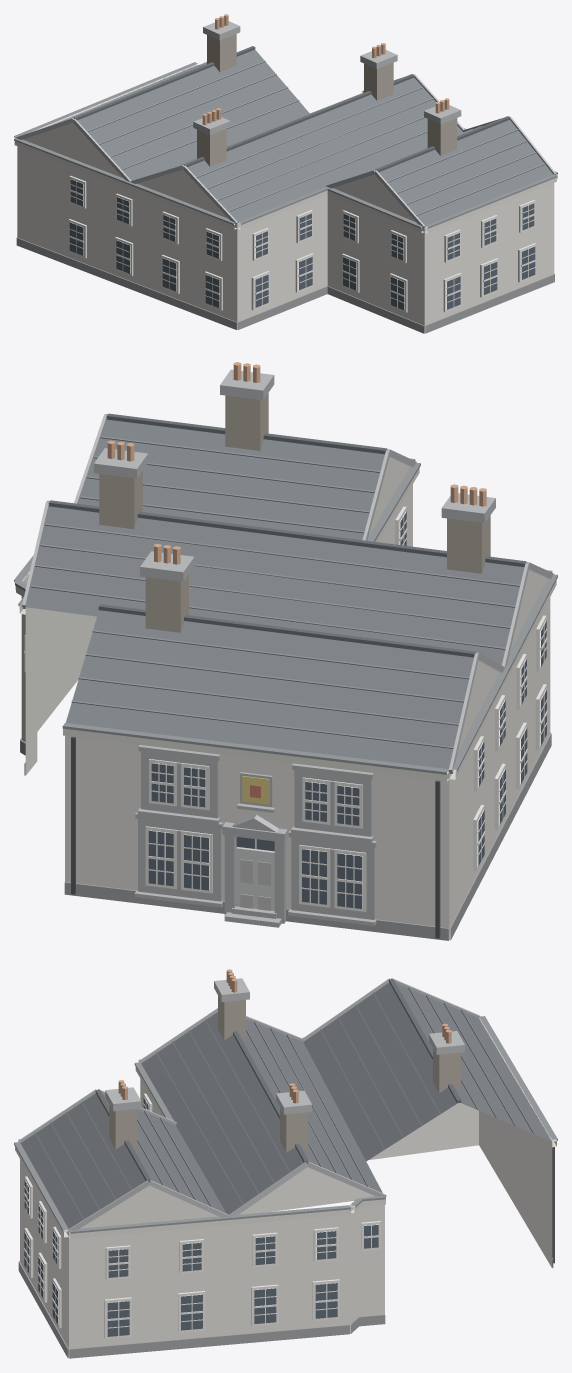
3 views of the same model, one above another, from view 1: azimuth 30°, elevation 25°; view 2: azimuth 150°, elevation 25°; view 3: azimuth 270°, elevation 25° (orthographic). The views are drawn at different scales.
Visible parts, largest first — view 1: harl, slate, frame, slate_lt, plinth, dress_dark, chim_stone, lead, string, slate_dk, pot, window_glass_014 (+5 smaller); view 2: slate, harl, dress_dark, slate_lt, frame, chim_stone, slate_dk, lead, plinth, string, pot, pipe (+10 smaller); view 3: slate, harl, dress_dark, frame, slate_lt, chim_stone, plinth, lead, string, slate_dk, window_glass_032, window_glass_034 (+7 smaller).
Boxes of the visible parts, bbox=[...] form: harl: bbox=[17, 123, 554, 333]; slate: bbox=[77, 49, 552, 226]; frame: bbox=[68, 176, 536, 312]; slate_lt: bbox=[50, 60, 545, 215]; plinth: bbox=[16, 237, 554, 333]; dress_dark: bbox=[15, 21, 556, 228]; chim_stone: bbox=[197, 34, 457, 166]; lead: bbox=[14, 62, 557, 228]; string: bbox=[14, 64, 557, 233]; slate_dk: bbox=[73, 46, 509, 172]; pot: bbox=[202, 14, 449, 125]; window_glass_014: bbox=[162, 258, 176, 291]; slate: bbox=[26, 419, 524, 771]; harl: bbox=[21, 457, 550, 939]; dress_dark: bbox=[22, 369, 553, 927]; slate_lt: bbox=[30, 436, 520, 748]; frame: bbox=[24, 506, 547, 911]; chim_stone: bbox=[99, 393, 490, 632]; slate_dk: bbox=[48, 413, 526, 657]; lead: bbox=[14, 458, 557, 774]; plinth: bbox=[20, 732, 551, 940]; string: bbox=[15, 468, 556, 781]; pot: bbox=[107, 362, 486, 564]; pipe: bbox=[71, 736, 440, 938]; slate: bbox=[20, 982, 551, 1228]; harl: bbox=[20, 1079, 552, 1357]; dress_dark: bbox=[18, 978, 480, 1232]; frame: bbox=[24, 1093, 380, 1338]; slate_lt: bbox=[34, 988, 534, 1219]; chim_stone: bbox=[109, 996, 460, 1152]; plinth: bbox=[18, 1258, 553, 1358]; lead: bbox=[14, 1016, 557, 1233]; string: bbox=[15, 1018, 556, 1238]; slate_dk: bbox=[95, 979, 461, 1181]; window_glass_032: bbox=[107, 1301, 129, 1336]; window_glass_034: bbox=[181, 1294, 202, 1330].
Size of the model in its own units: 20.62 by 10.09 by 21.77.
